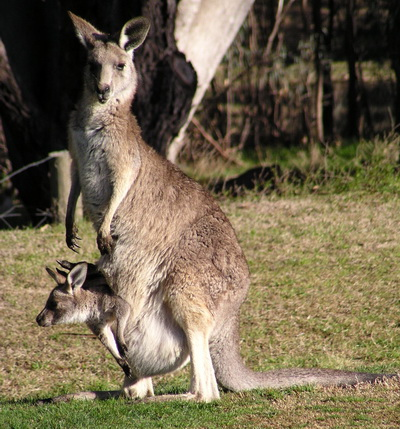kangaroo: (61, 10, 400, 408), (30, 256, 140, 380)
